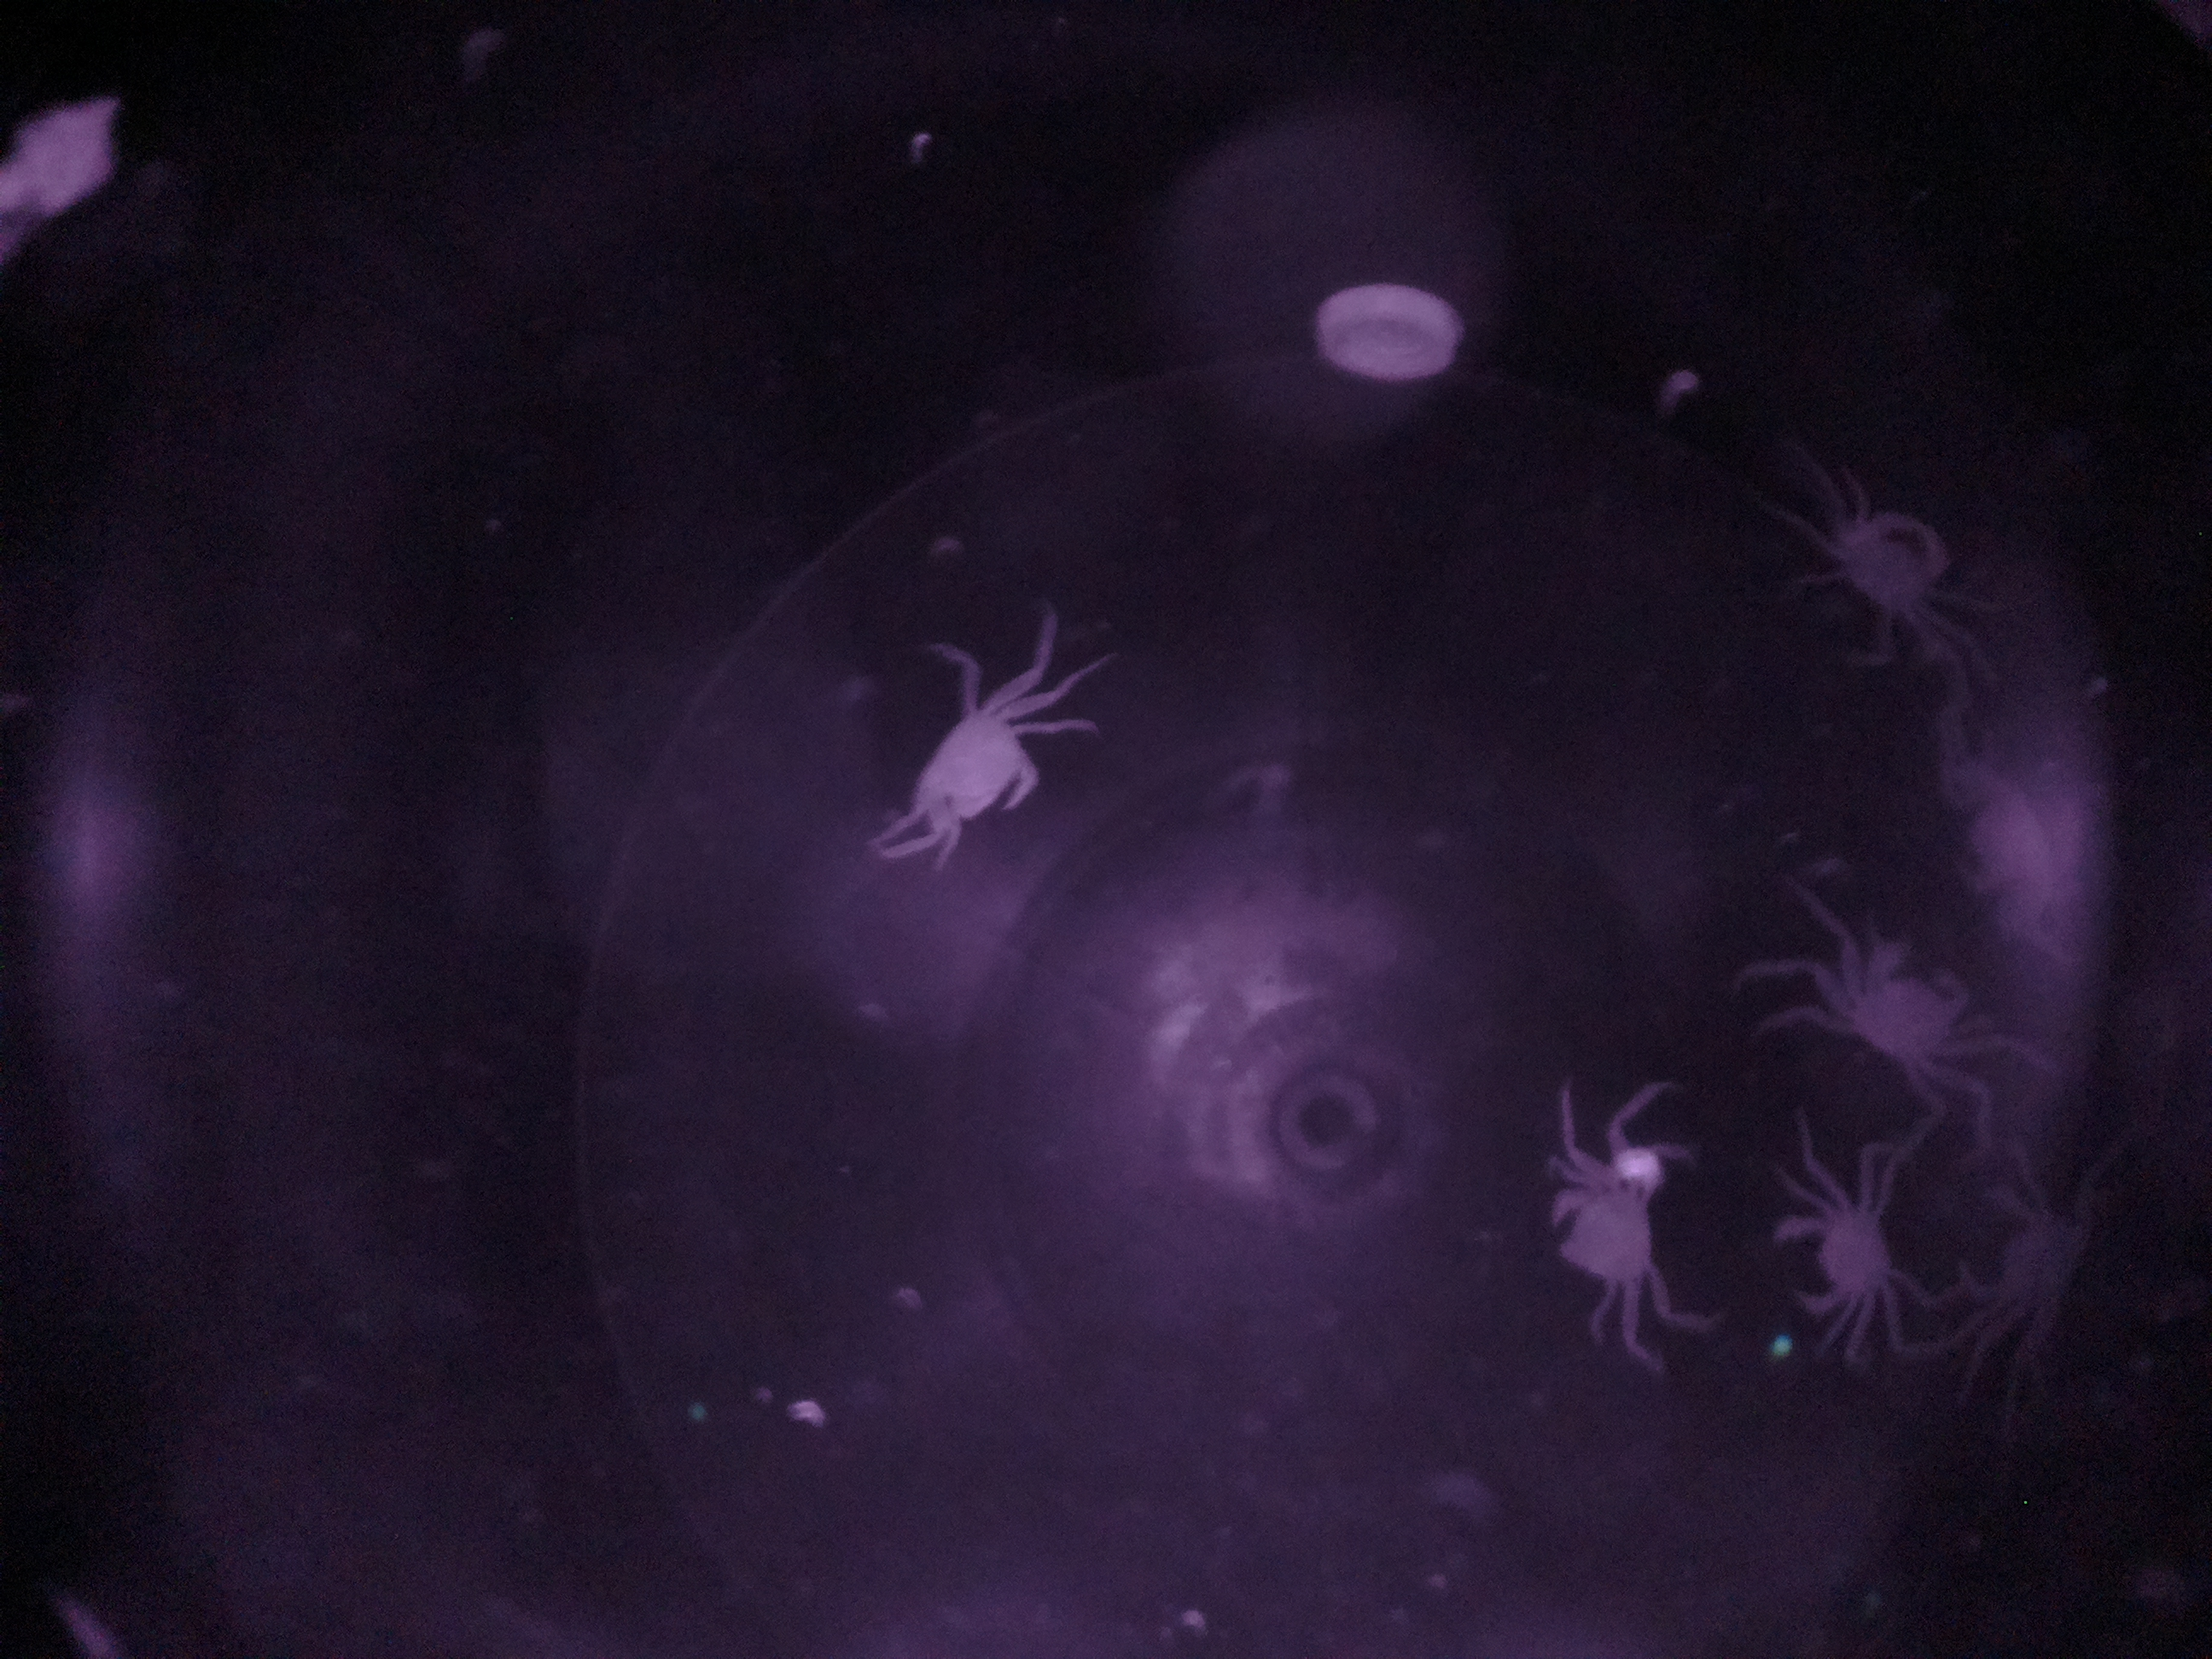Crab: (1825, 910, 1980, 1108), (1759, 1154, 1918, 1333)
